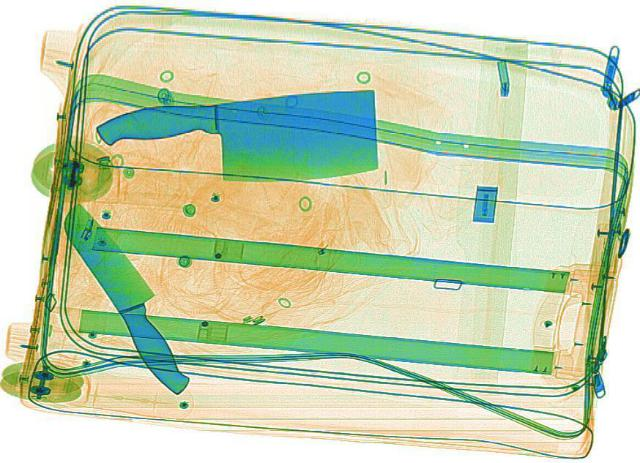Knife: (45, 192, 214, 403), (92, 80, 384, 186)
